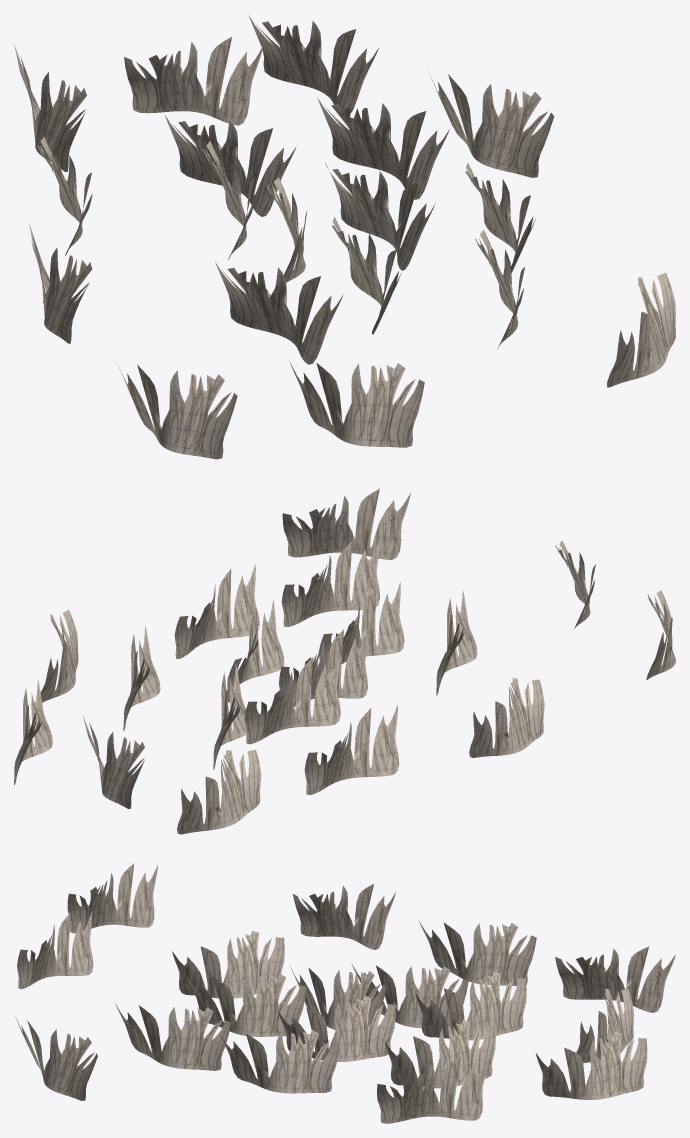
File: grass.obj
3 views of the same model, one above another, from view 1: azimuth 30°, elevation 25°; view 2: azimuth 150°, elevation 25°; view 3: azimuth 270°, elevation 25° (orthographic). The views are drawn at different scales.
Visible parts, largest first — view 1: grass; view 2: grass; view 3: grass.
Boxes of the visible parts, x1,y1,x2,y2 form: grass: [14, 15, 675, 459]; grass: [14, 488, 675, 834]; grass: [15, 863, 675, 1123].
Size of the model in its own units: 2.99 by 0.3722 by 3.9.
